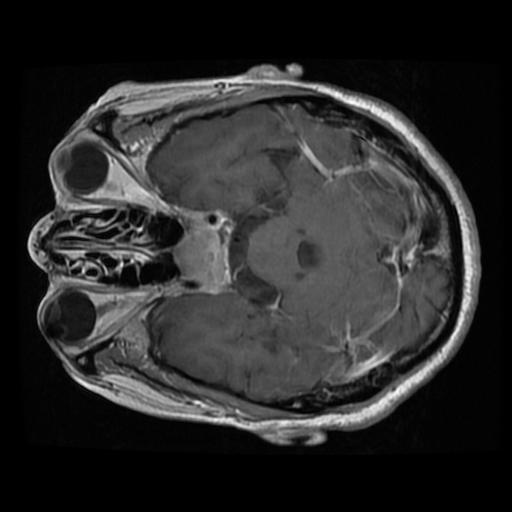pituitary tumour: (174, 216, 225, 291)
